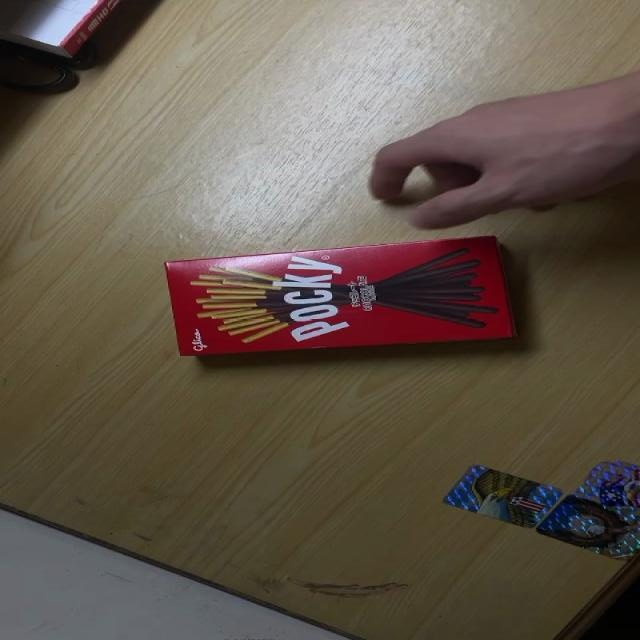Pocky: (162, 236, 521, 358)
